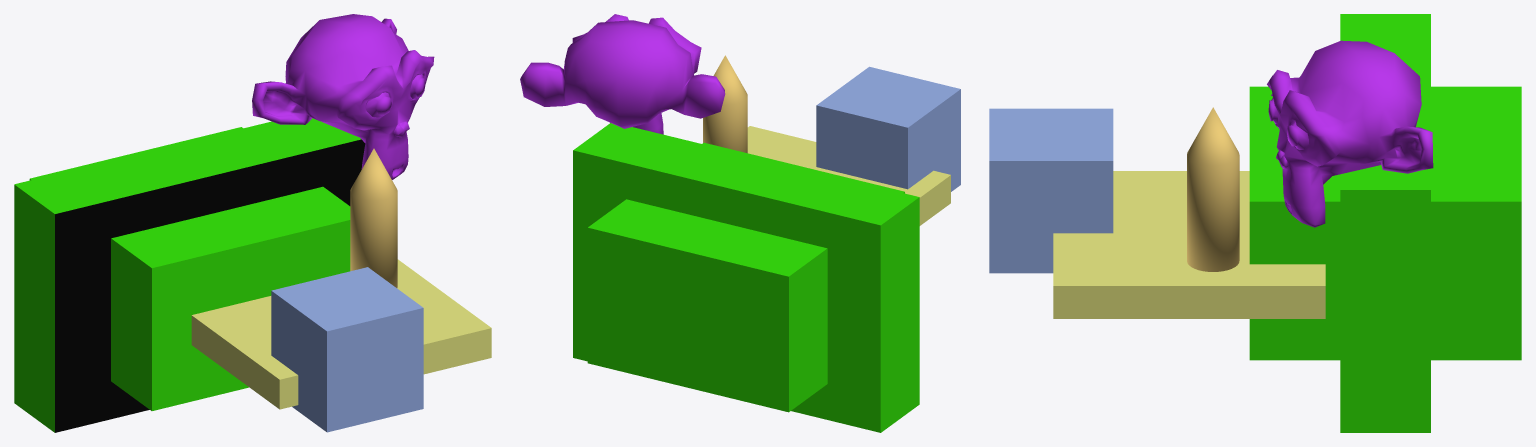
3 renders of one model, left to right at view 1: azimuth 30°, elevation 25°; view 2: azimuth 150°, elevation 25°; view 3: azimuth 270°, elevation 25°, orthographic. The views are drawn at different scales.
Parts seen in each view (by area): view 1: Cube.002, Cube, Suzanne, Cube.001, Cone; view 2: Cube.002, Suzanne, Cube, Cube.001, Cone; view 3: Cube.002, Cube.001, Suzanne, Cube, Cone.
Part boxes in pixels (box(x1,y1,x2,y2)): Cube.002: box(14, 118, 365, 432); Cube: box(271, 267, 423, 432); Suzanne: box(252, 14, 434, 179); Cube.001: box(191, 259, 491, 409); Cone: box(350, 148, 397, 287); Cube.002: box(573, 123, 919, 432); Suzanne: box(520, 14, 725, 134); Cube: box(816, 66, 960, 191); Cube.001: box(747, 126, 950, 225); Cone: box(703, 55, 747, 153); Cube.002: box(1249, 14, 1521, 432); Cube.001: box(1053, 171, 1325, 318); Suzanne: box(1267, 40, 1433, 227); Cube: box(989, 108, 1113, 273); Cone: box(1187, 107, 1239, 271).
Bounding box in the file's own units: 5.47 × 4.55 × 5.96.
